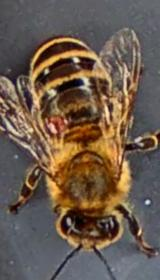varroa_mite: (41, 102, 73, 141)
